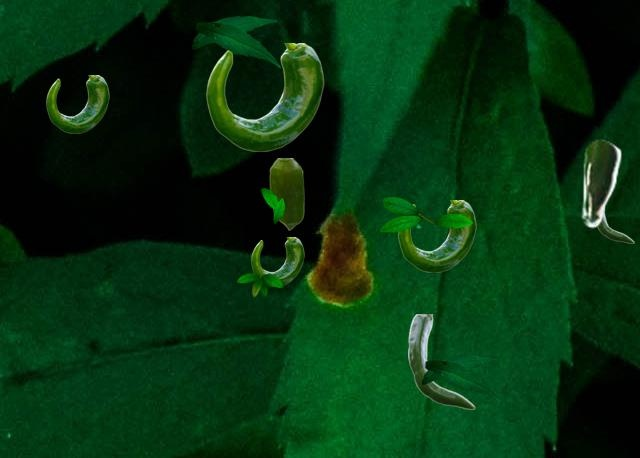green_chili: (206, 43, 323, 150), (408, 314, 474, 408), (398, 200, 475, 271), (579, 138, 621, 227), (46, 75, 108, 132), (251, 237, 303, 285), (269, 158, 303, 229), (597, 210, 633, 242)
